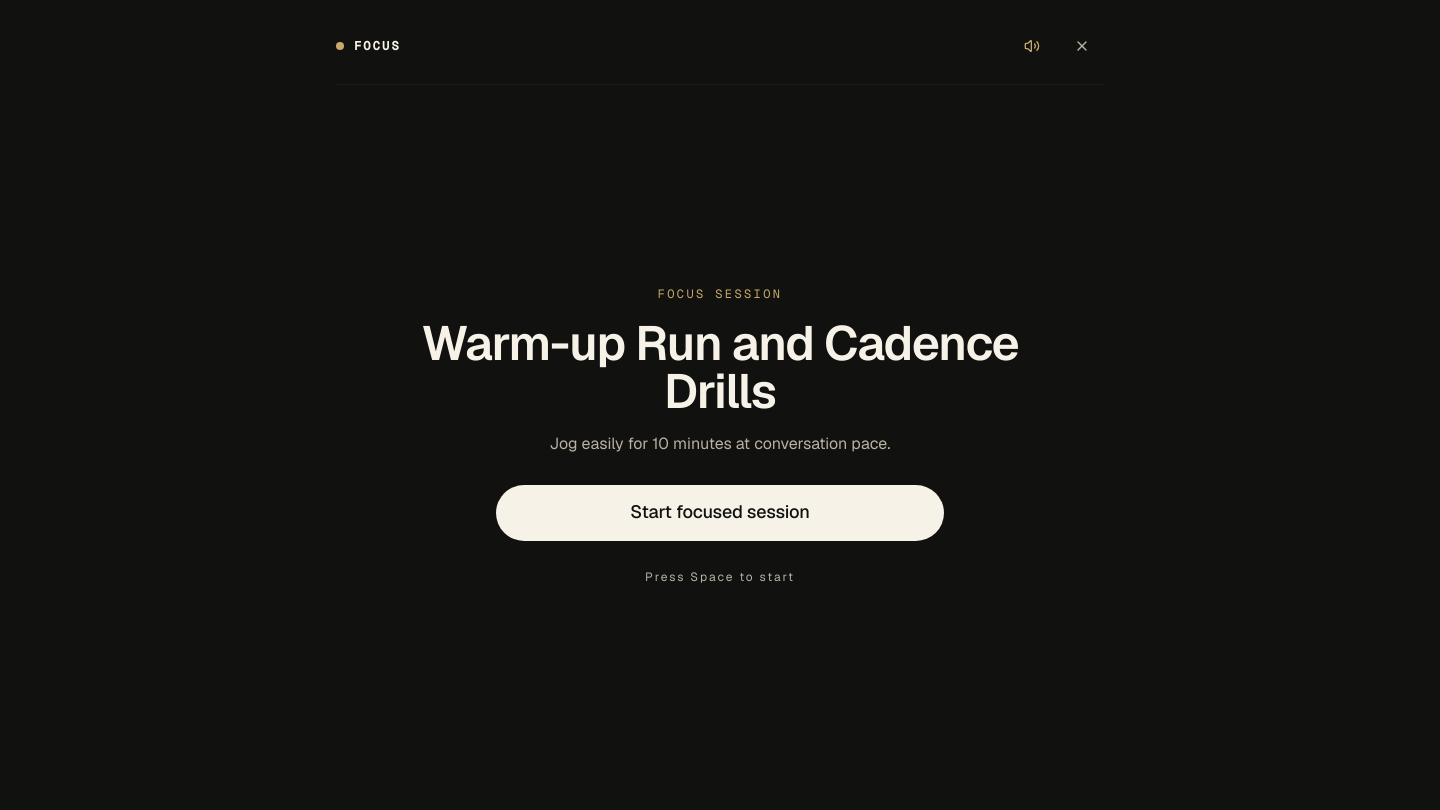
Test: FocusSessionModal › offers the minimum version without adding another card or flow
The image size is (1440, 810).
Click the button "Start focused session": (720, 512) [496,484,944,540]
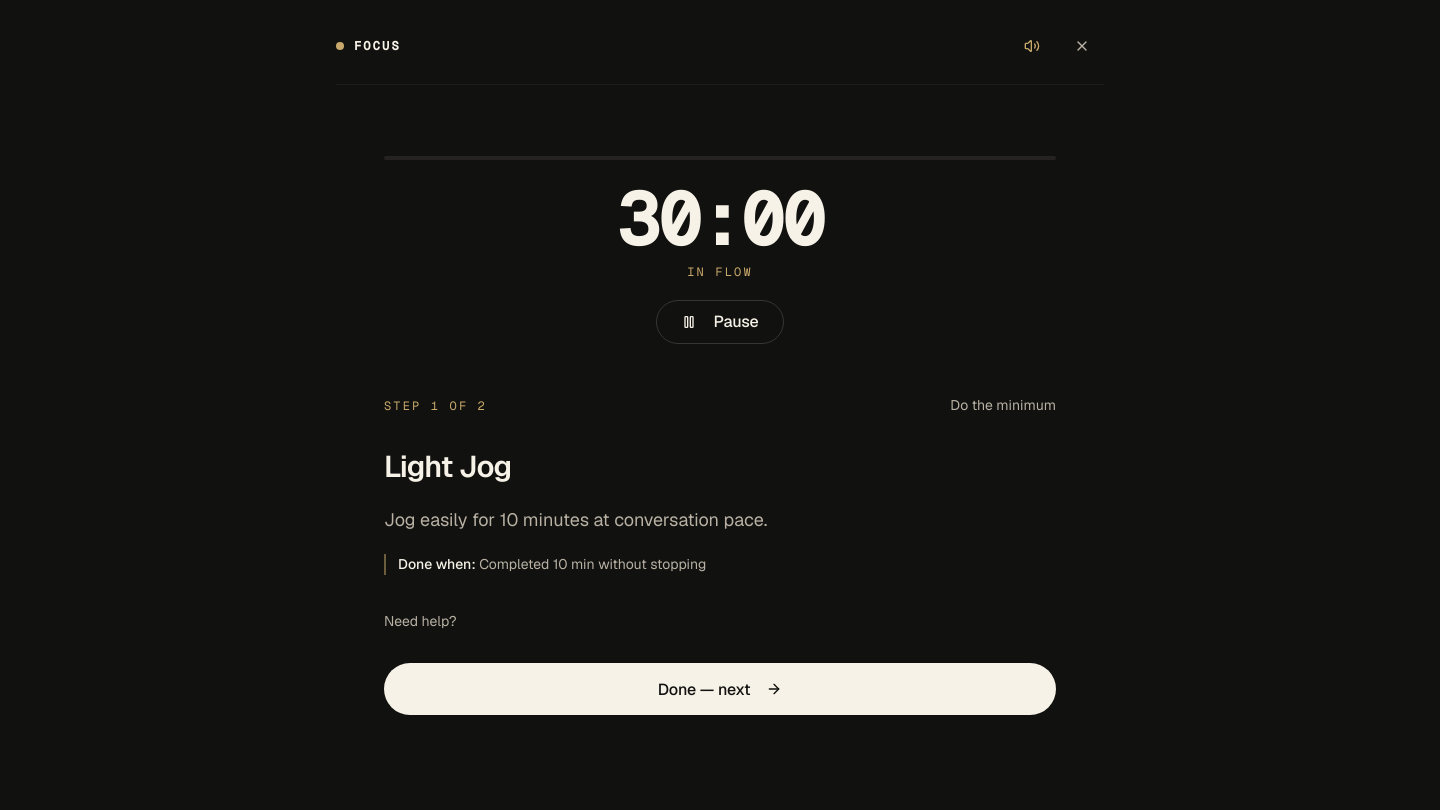
Click the button with aria-label "low energy": (1003, 406) [950,384,1056,428]
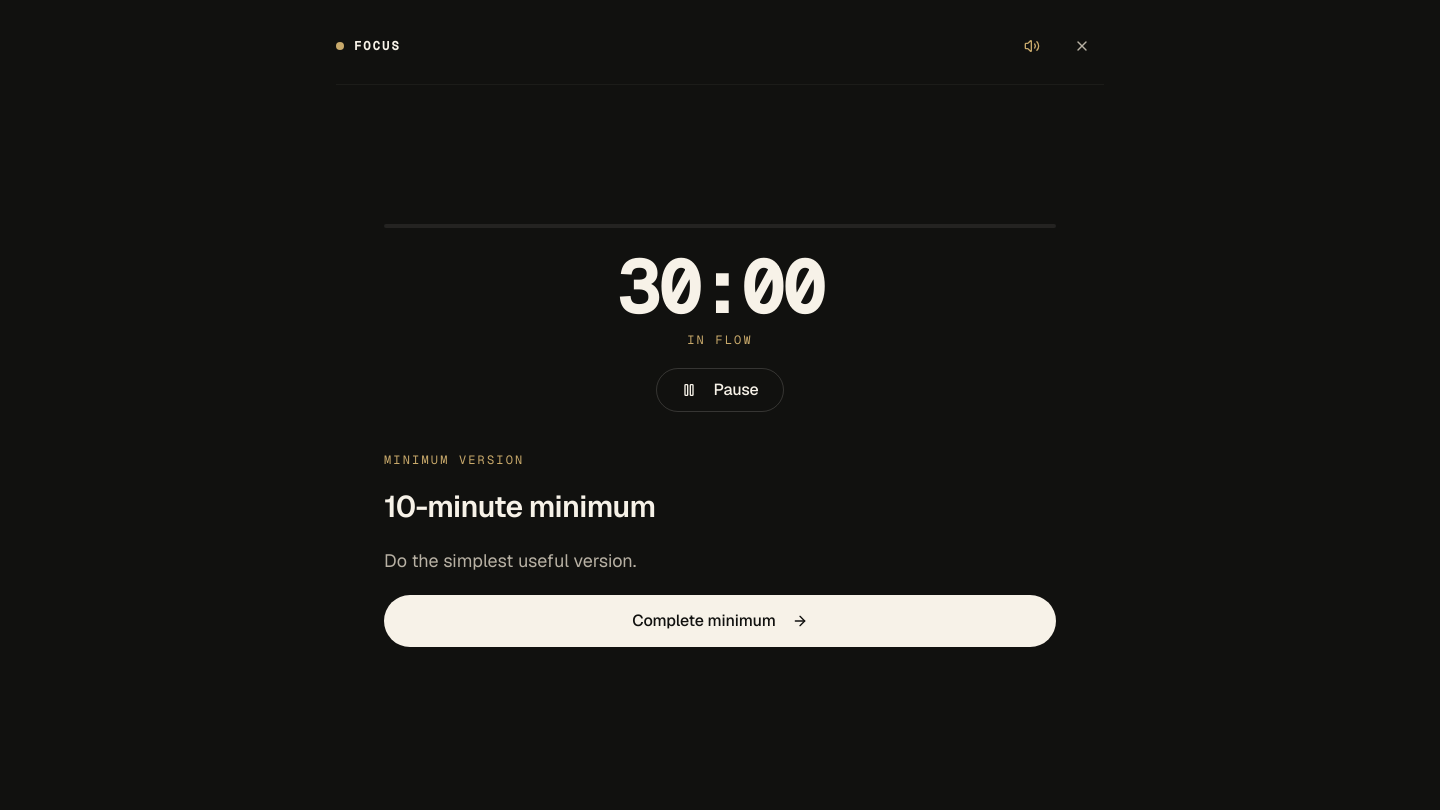
Expected: the text "Minimum version" is shown, [384,452,524,468]
Expected: the heading "10-minute minimum" is shown, [384,487,656,526]
Click the button "Complete minimum": (720, 621) [384,595,1056,647]
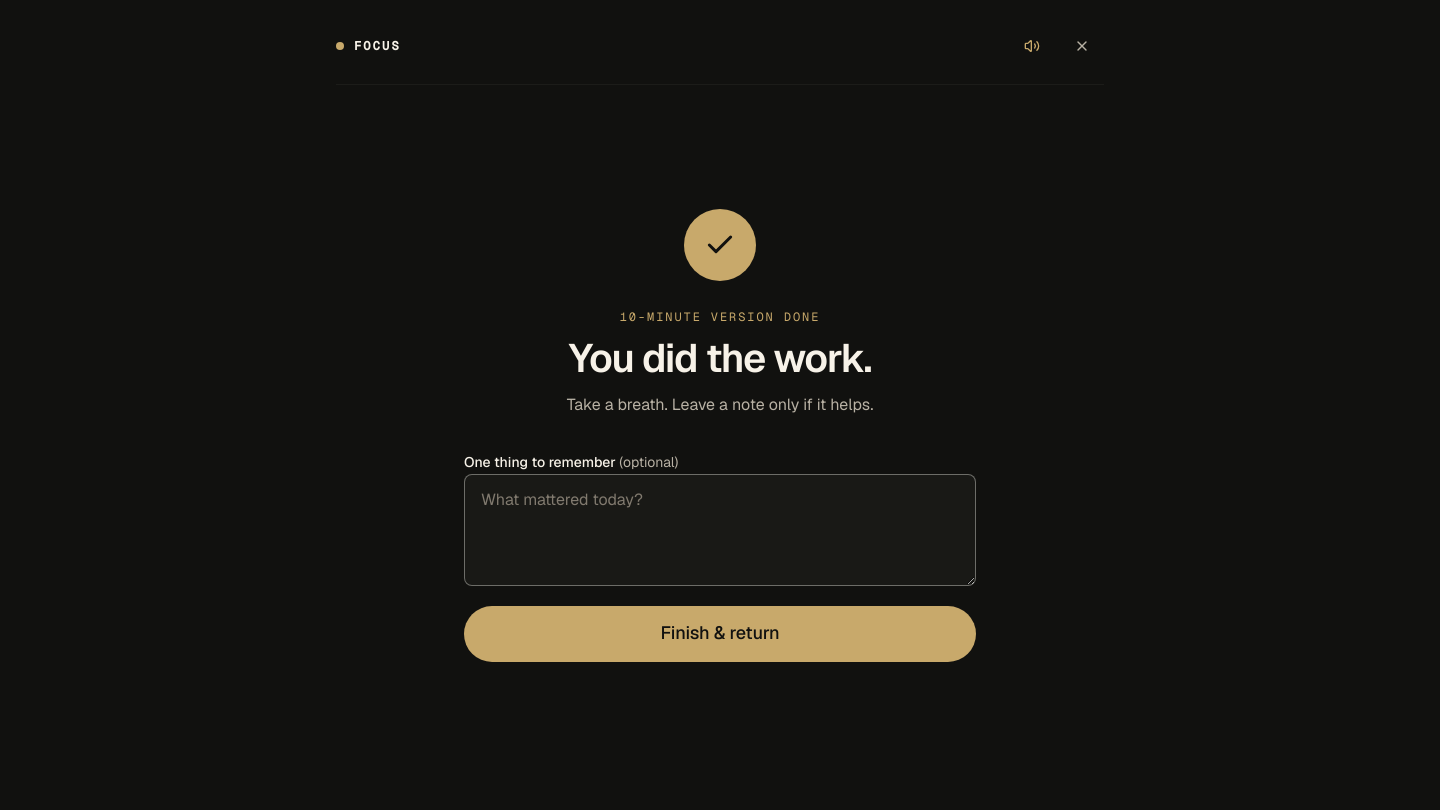
Expected: the text "10-minute version done" is shown, [620,309,820,325]
